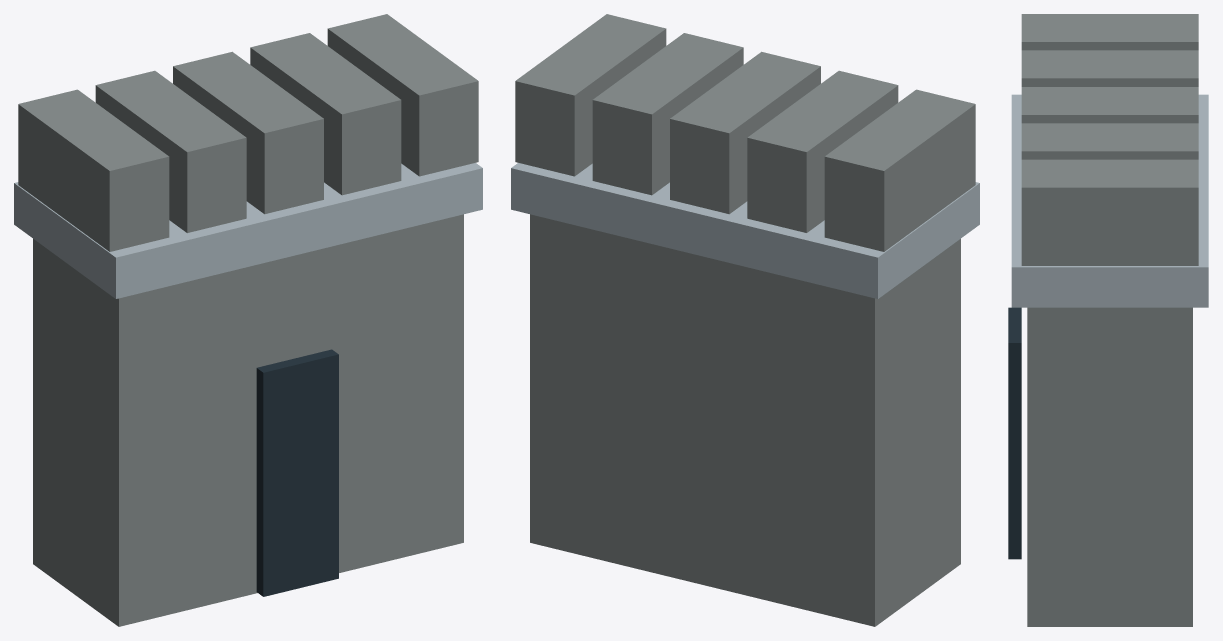
Rendered from defense.obj.
The picture shows the model from 3 angles, left to right: view 1: azimuth 30°, elevation 25°; view 2: azimuth 150°, elevation 25°; view 3: azimuth 270°, elevation 25°; orthographic projection. The views are drawn at different scales.
Visible parts, largest first — view 1: defense; view 2: defense; view 3: defense.
Boxes of the visible parts, x1,y1,x2,y2 form: defense: (14, 14, 482, 626); defense: (511, 14, 979, 626); defense: (1008, 14, 1208, 626).
Size of the model in its own units: 1.86 by 2.22 by 0.905.
